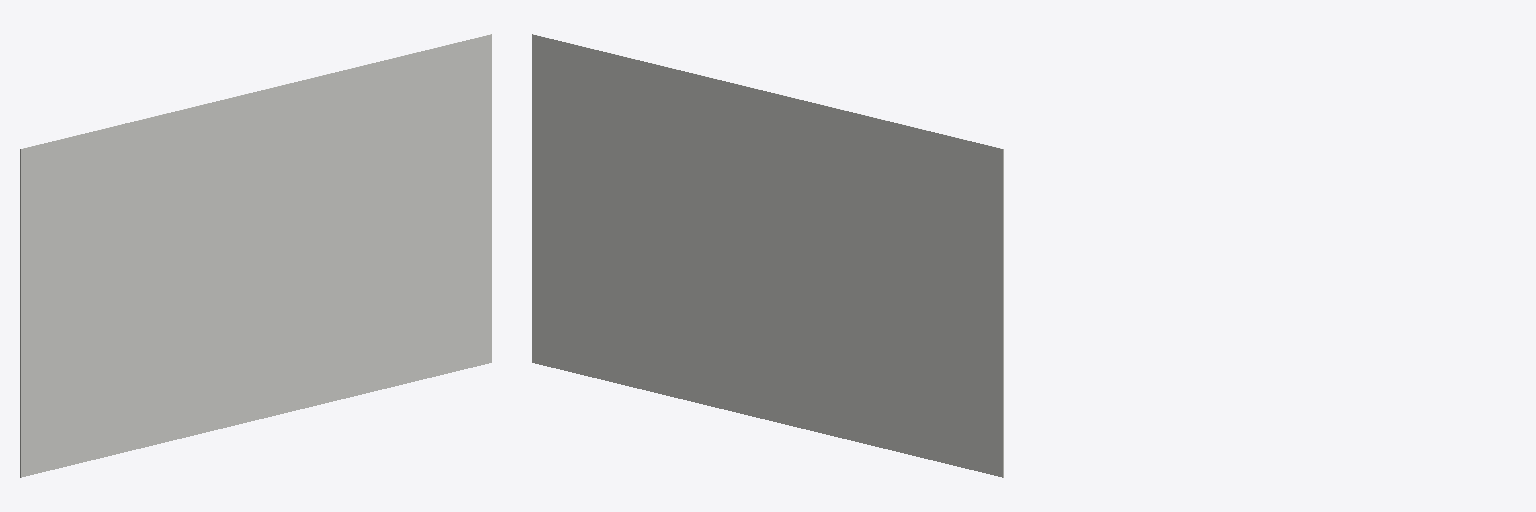
robot.urdf — dual_arm:
<?xml version="1.0" ?>
<!-- =================================================================================== -->
<!-- |    This document was autogenerated by xacro from src/abb_dual_arm/abb_irb120_support/urdf/dual_arm.xacro | -->
<!-- |    EDITING THIS FILE BY HAND IS NOT RECOMMENDED                                 | -->
<!-- =================================================================================== -->
<robot name="dual_arm">
  <!-- Conversion were obtained from http://www.e-paint.co.uk/Lab_values.asp
       unless otherwise stated. -->
  <!-- World Link -->
  <link name="world">
    <visual>
      <origin rpy="0 0 0" xyz="0 0 0"/>
      <geometry>
        <mesh filename="package://abb_irb120_support/meshes/irb120_3_58/visual/ground_plane.stl" scale="0.001 0.001 0.001"/>
      </geometry>
      <material name="">
        <color rgba="0.9254902 0.9254902 0.9058824 1"/>
      </material>
    </visual>
    <collision>
      <origin rpy="0 0 0" xyz="0 0 0"/>
      <geometry>
        <mesh filename="package://abb_irb120_support/meshes/irb120_3_58/collision/ground_plane.stl" scale="0.001 0.001 0.001"/>
      </geometry>
    </collision>
  </link>
  <!-- Arm 1 Links -->
  <link name="base_link">
    <inertial>
      <mass value="6.215"/>
      <origin rpy="0 0 0" xyz="-0.04204 8.01E-05 0.07964"/>
      <inertia ixx="0.0247272" ixy="-8.0784E-05" ixz="0.00130902" iyy="0.0491285" iyz="-8.0419E-06" izz="0.0472376"/>
    </inertial>
    <visual>
      <origin rpy="0 0 0" xyz="0 0 0"/>
      <geometry>
        <mesh filename="package://abb_irb120_support/meshes/irb120_3_58/visual/base_link.stl"/>
      </geometry>
      <material name="">
        <color rgba="0.7372549 0.3490196 0.1607843 1"/>
      </material>
    </visual>
    <collision>
      <origin rpy="0 0 0" xyz="0 0 0"/>
      <geometry>
        <mesh filename="package://abb_irb120_support/meshes/irb120_3_58/collision/base_link.stl"/>
      </geometry>
      <material name="">
        <color rgba="1 1 0 1"/>
      </material>
    </collision>
  </link>
  <link name="link_1">
    <inertial>
      <mass value="3.067"/>
      <origin rpy="0 0 0" xyz="9.77E-05 -0.00012 0.23841"/>
      <inertia ixx="0.0142175" ixy="-1.28579E-05" ixz="-2.31364E-05" iyy="0.0144041" iyz="1.93404E-05" izz="0.0104533"/>
    </inertial>
    <visual>
      <origin rpy="0 0 0" xyz="0 0 0"/>
      <geometry>
        <mesh filename="package://abb_irb120_support/meshes/irb120_3_58/visual/link_1.stl"/>
      </geometry>
      <material name="">
        <color rgba="0.7372549 0.3490196 0.1607843 1"/>
      </material>
    </visual>
    <collision>
      <origin rpy="0 0 0" xyz="0 0 0"/>
      <geometry>
        <mesh filename="package://abb_irb120_support/meshes/irb120_3_58/collision/link_1.stl"/>
      </geometry>
      <material name="">
        <color rgba="1 1 0 1"/>
      </material>
    </collision>
  </link>
  <link name="link_2">
    <inertial>
      <mass value="3.909"/>
      <origin rpy="0 0 0" xyz="0.00078 -0.00212 0.10124"/>
      <inertia ixx="0.0603111" ixy="9.83431E-06" ixz="5.72407E-05" iyy="0.041569" iyz="-0.00050497" izz="0.0259548"/>
    </inertial>
    <visual>
      <origin rpy="0 0 0" xyz="0 0 0"/>
      <geometry>
        <mesh filename="package://abb_irb120_support/meshes/irb120_3_58/visual/link_2.stl"/>
      </geometry>
      <material name="">
        <color rgba="0.7372549 0.3490196 0.1607843 1"/>
      </material>
    </visual>
    <collision>
      <origin rpy="0 0 0" xyz="0 0 0"/>
      <geometry>
        <mesh filename="package://abb_irb120_support/meshes/irb120_3_58/collision/link_2.stl"/>
      </geometry>
      <material name="">
        <color rgba="1 1 0 1"/>
      </material>
    </collision>
  </link>
  <link name="link_3">
    <inertial>
      <mass value="2.944"/>
      <origin rpy="0 0 0" xyz="0.02281 0.00106 0.05791"/>
      <inertia ixx="0.00835606" ixy="-8.01545E-05" ixz="0.00142884" iyy="0.016713" iyz="-0.000182227" izz="0.0126984"/>
    </inertial>
    <visual>
      <origin rpy="0 0 0" xyz="0 0 0"/>
      <geometry>
        <mesh filename="package://abb_irb120_support/meshes/irb120_3_58/visual/link_3.stl"/>
      </geometry>
      <material name="">
        <color rgba="0.7372549 0.3490196 0.1607843 1"/>
      </material>
    </visual>
    <collision>
      <origin rpy="0 0 0" xyz="0 0 0"/>
      <geometry>
        <mesh filename="package://abb_irb120_support/meshes/irb120_3_58/collision/link_3.stl"/>
      </geometry>
      <material name="">
        <color rgba="1 1 0 1"/>
      </material>
    </collision>
  </link>
  <link name="link_4">
    <inertial>
      <mass value="1.328"/>
      <origin rpy="0 0 0" xyz="0.2247 0.00015 0.00041"/>
      <inertia ixx="0.00284661" ixy="-2.12765E-05" ixz="-1.6435E-05" iyy="0.00401346" iyz="1.31336E-05" izz="0.0052535"/>
    </inertial>
    <visual>
      <origin rpy="0 0 0" xyz="0 0 0"/>
      <geometry>
        <mesh filename="package://abb_irb120_support/meshes/irb120_3_58/visual/link_4.stl"/>
      </geometry>
      <material name="">
        <color rgba="0.7372549 0.3490196 0.1607843 1"/>
      </material>
    </visual>
    <collision>
      <origin rpy="0 0 0" xyz="0 0 0"/>
      <geometry>
        <mesh filename="package://abb_irb120_support/meshes/irb120_3_58/collision/link_4.stl"/>
      </geometry>
      <material name="">
        <color rgba="1 1 0 1"/>
      </material>
    </collision>
  </link>
  <link name="link_5">
    <inertial>
      <mass value="0.546"/>
      <origin rpy="0 0 0" xyz="-0.00109 3.68E-05 6.22E-05"/>
      <inertia ixx="0.000404891" ixy="1.61943E-06" ixz="8.46805E-07" iyy="0.000892825" iyz="-1.51792E-08" izz="0.000815468"/>
    </inertial>
    <visual>
      <origin rpy="0 0 0" xyz="0 0 0"/>
      <geometry>
        <mesh filename="package://abb_irb120_support/meshes/irb120_3_58/visual/link_5.stl"/>
      </geometry>
      <material name="">
        <color rgba="0.7372549 0.3490196 0.1607843 1"/>
      </material>
    </visual>
    <collision>
      <origin rpy="0 0 0" xyz="0 0 0"/>
      <geometry>
        <mesh filename="package://abb_irb120_support/meshes/irb120_3_58/collision/link_5.stl"/>
      </geometry>
      <material name="">
        <color rgba="1 1 0 1"/>
      </material>
    </collision>
  </link>
  <link name="link_6">
    <inertial>
      <mass value="0.137"/>
      <origin rpy="0 0 0" xyz="-0.00706 -0.00017 -1.32E-06"/>
      <inertia ixx="0.001" ixy="0" ixz="0" iyy="0.001" iyz="0" izz="0.001"/>
    </inertial>
    <visual>
      <origin rpy="0 0 0" xyz="0 0 0"/>
      <geometry>
        <mesh filename="package://abb_irb120_support/meshes/irb120_3_58/visual/link_6.stl"/>
      </geometry>
      <material name="">
        <color rgba="0.1882353 0.1960784 0.2039216 1"/>
      </material>
    </visual>
    <collision>
      <origin rpy="0 0 0" xyz="0 0 0"/>
      <geometry>
        <mesh filename="package://abb_irb120_support/meshes/irb120_3_58/collision/link_6.stl"/>
      </geometry>
      <material name="">
        <color rgba="1 1 0 1"/>
      </material>
    </collision>
  </link>
  <!-- Arm 2 Links -->
  <link name="base_link_m">
    <inertial>
      <mass value="6.215"/>
      <origin rpy="0 0 0" xyz="-0.04204 8.01E-05 0.07964"/>
      <inertia ixx="0.0247272" ixy="-8.0784E-05" ixz="0.00130902" iyy="0.0491285" iyz="-8.0419E-06" izz="0.0472376"/>
    </inertial>
    <visual>
      <origin rpy="0 0 3.14159" xyz="0 0 0"/>
      <geometry>
        <mesh filename="package://abb_irb120_support/meshes/irb120_3_58/visual/base_link.stl"/>
      </geometry>
      <material name="">
        <color rgba="0.7372549 0.3490196 0.1607843 1"/>
      </material>
    </visual>
    <collision>
      <origin rpy="0 0 3.14159" xyz="0 0 0"/>
      <geometry>
        <mesh filename="package://abb_irb120_support/meshes/irb120_3_58/collision/base_link.stl"/>
      </geometry>
      <material name="">
        <color rgba="1 1 0 1"/>
      </material>
    </collision>
  </link>
  <link name="link_1_m">
    <inertial>
      <mass value="3.067"/>
      <origin rpy="0 0 0" xyz="9.77E-05 -0.00012 0.23841"/>
      <inertia ixx="0.0142175" ixy="-1.28579E-05" ixz="-2.31364E-05" iyy="0.0144041" iyz="1.93404E-05" izz="0.0104533"/>
    </inertial>
    <visual>
      <origin rpy="0 0 3.14159" xyz="0 0 0"/>
      <geometry>
        <mesh filename="package://abb_irb120_support/meshes/irb120_3_58/visual/link_1.stl"/>
      </geometry>
      <material name="">
        <color rgba="0.7372549 0.3490196 0.1607843 1"/>
      </material>
    </visual>
    <collision>
      <origin rpy="0 0 3.14159" xyz="0 0 0"/>
      <geometry>
        <mesh filename="package://abb_irb120_support/meshes/irb120_3_58/collision/link_1.stl"/>
      </geometry>
      <material name="">
        <color rgba="1 1 0 1"/>
      </material>
    </collision>
  </link>
  <link name="link_2_m">
    <inertial>
      <mass value="3.909"/>
      <origin rpy="0 0 0" xyz="0.00078 -0.00212 0.10124"/>
      <inertia ixx="0.0603111" ixy="9.83431E-06" ixz="5.72407E-05" iyy="0.041569" iyz="-0.00050497" izz="0.0259548"/>
    </inertial>
    <visual>
      <origin rpy="0 0 0" xyz="0 0 0"/>
      <geometry>
        <mesh filename="package://abb_irb120_support/meshes/irb120_3_58/visual/link_2.stl"/>
      </geometry>
      <material name="">
        <color rgba="0.7372549 0.3490196 0.1607843 1"/>
      </material>
    </visual>
    <collision>
      <origin rpy="0 0 0" xyz="0 0 0"/>
      <geometry>
        <mesh filename="package://abb_irb120_support/meshes/irb120_3_58/collision/link_2.stl"/>
      </geometry>
      <material name="">
        <color rgba="1 1 0 1"/>
      </material>
    </collision>
  </link>
  <link name="link_3_m">
    <inertial>
      <mass value="2.944"/>
      <origin rpy="0 0 0" xyz="0.02281 0.00106 0.05791"/>
      <inertia ixx="0.00835606" ixy="-8.01545E-05" ixz="0.00142884" iyy="0.016713" iyz="-0.000182227" izz="0.0126984"/>
    </inertial>
    <visual>
      <origin rpy="0 0 3.14159" xyz="0 0 0"/>
      <geometry>
        <mesh filename="package://abb_irb120_support/meshes/irb120_3_58/visual/link_3.stl"/>
      </geometry>
      <material name="">
        <color rgba="0.7372549 0.3490196 0.1607843 1"/>
      </material>
    </visual>
    <collision>
      <origin rpy="0 0 3.14159" xyz="0 0 0"/>
      <geometry>
        <mesh filename="package://abb_irb120_support/meshes/irb120_3_58/collision/link_3.stl"/>
      </geometry>
      <material name="">
        <color rgba="1 1 0 1"/>
      </material>
    </collision>
  </link>
  <link name="link_4_m">
    <inertial>
      <mass value="1.328"/>
      <origin rpy="0 0 0" xyz="2.2247 0.00015 0.00041"/>
      <inertia ixx="0.00284661" ixy="-2.12765E-05" ixz="-1.6435E-05" iyy="0.00401346" iyz="1.31336E-05" izz="0.0052535"/>
    </inertial>
    <visual>
      <origin rpy="3.14159 3.14159 0" xyz="0 0 0"/>
      <geometry>
        <mesh filename="package://abb_irb120_support/meshes/irb120_3_58/visual/link_4.stl"/>
      </geometry>
      <material name="">
        <color rgba="0.7372549 0.3490196 0.1607843 1"/>
      </material>
    </visual>
    <collision>
      <origin rpy="3.14159 3.14159 0" xyz="0 0 0"/>
      <geometry>
        <mesh filename="package://abb_irb120_support/meshes/irb120_3_58/collision/link_4.stl"/>
      </geometry>
      <material name="">
        <color rgba="1 1 0 1"/>
      </material>
    </collision>
  </link>
  <link name="link_5_m">
    <inertial>
      <mass value="0.546"/>
      <origin rpy="0 0 0" xyz="-0.60109 3.68E-05 6.22E-05"/>
      <inertia ixx="0.000404891" ixy="1.61943E-06" ixz="8.46805E-07" iyy="0.000892825" iyz="-1.51792E-08" izz="0.000815468"/>
    </inertial>
    <visual>
      <origin rpy="3.14159 3.14159 0" xyz="0 0 0"/>
      <geometry>
        <mesh filename="package://abb_irb120_support/meshes/irb120_3_58/visual/link_5.stl"/>
      </geometry>
      <material name="">
        <color rgba="0.7372549 0.3490196 0.1607843 1"/>
      </material>
    </visual>
    <collision>
      <origin rpy="3.14159 3.14159 0" xyz="0 0 0"/>
      <geometry>
        <mesh filename="package://abb_irb120_support/meshes/irb120_3_58/collision/link_5.stl"/>
      </geometry>
      <material name="">
        <color rgba="1 1 0 1"/>
      </material>
    </collision>
  </link>
  <link name="link_6_m">
    <inertial>
      <mass value="0.137"/>
      <origin rpy="0 0 0" xyz="-0.00706 -0.00017 -1.32E-06"/>
      <inertia ixx="0.001" ixy="0" ixz="0" iyy="0.001" iyz="0" izz="0.001"/>
    </inertial>
    <visual>
      <origin rpy="0 3.14159 0" xyz="0 0 0"/>
      <geometry>
        <mesh filename="package://abb_irb120_support/meshes/irb120_3_58/visual/link_6.stl"/>
      </geometry>
      <material name="">
        <color rgba="0.1882353 0.1960784 0.2039216 1"/>
      </material>
    </visual>
    <collision>
      <origin rpy="0 3.14159 0" xyz="0 0 0"/>
      <geometry>
        <mesh filename="package://abb_irb120_support/meshes/irb120_3_58/collision/link_6.stl"/>
      </geometry>
      <material name="">
        <color rgba="1 1 0 1"/>
      </material>
    </collision>
  </link>
  <!-- Gripper Links -->
  <link name="gripper_m">
    <visual>
      <origin rpy="0 0 0" xyz="0 0 0"/>
      <geometry>
        <mesh filename="package://abb_irb120_support/meshes/irb120_3_58/visual/gripper_assembly.stl" scale="0.001 0.001 0.001"/>
      </geometry>
      <material name="">
        <color rgba="0.9254902 0.9254902 0.9058824 1"/>
      </material>
    </visual>
    <collision>
      <origin rpy="0 0 0" xyz="0 0 0"/>
      <geometry>
        <mesh filename="package://abb_irb120_support/meshes/irb120_3_58/collision/gripper_collision_cube.stl" scale="0.001 0.001 0.001"/>
      </geometry>
    </collision>
  </link>
  <!-- Arm 1 Joints -->
  <joint name="joint_2" type="revolute">
    <origin rpy="0 0 0" xyz="0 0 0"/>
    <parent link="base_link"/>
    <child link="link_1"/>
    <limit effort="0" lower="-2.87979" upper="2.87979" velocity="4.36332"/>
    <axis xyz="0 0 1"/>
    <dynamics damping="0.0" friction="0.0"/>
  </joint>
  <joint name="joint_3" type="revolute">
    <origin rpy="0 0 0" xyz="0 0 0.29"/>
    <parent link="link_1"/>
    <child link="link_2"/>
    <limit effort="0" lower="-1.91986" upper="1.91986" velocity="4.36332"/>
    <axis xyz="0 1 0"/>
    <dynamics damping="0.0" friction="0.0"/>
  </joint>
  <joint name="joint_4" type="revolute">
    <origin rpy="0 0 0" xyz="0 0 0.27"/>
    <parent link="link_2"/>
    <child link="link_3"/>
    <limit effort="0" lower="-1.91986" upper="1.22173" velocity="4.36332"/>
    <axis xyz="0 1 0"/>
    <dynamics damping="0.0" friction="0.0"/>
  </joint>
  <joint name="joint_5" type="revolute">
    <origin rpy="0 0 0" xyz="0 0 0.07"/>
    <parent link="link_3"/>
    <child link="link_4"/>
    <limit effort="0" lower="-2.79253" upper="2.79253" velocity="5.58505"/>
    <axis xyz="1 0 0"/>
    <dynamics damping="0.0" friction="0.0"/>
  </joint>
  <joint name="joint_6" type="revolute">
    <origin rpy="0 0 0" xyz="0.302 0 0"/>
    <parent link="link_4"/>
    <child link="link_5"/>
    <limit effort="0" lower="-2.094395" upper="2.094395" velocity="5.58505"/>
    <axis xyz="0 1 0"/>
    <dynamics damping="0.0" friction="0.0"/>
  </joint>
  <joint name="joint_7" type="revolute">
    <origin rpy="0 0 0" xyz="0.072 0 0"/>
    <parent link="link_5"/>
    <child link="link_6"/>
    <limit effort="0" lower="-6.98132" upper="6.98132" velocity="7.33038"/>
    <axis xyz="1 0 0"/>
    <dynamics damping="0.0" friction="0.0"/>
  </joint>
  <!-- Arm 2 Joints -->
  <joint name="joint_2_m" type="revolute">
    <origin rpy="0 0 0" xyz="0 0 0"/>
    <parent link="base_link_m"/>
    <child link="link_1_m"/>
    <limit effort="0" lower="-2.87979" upper="2.87979" velocity="4.36332"/>
    <axis xyz="0 0 1"/>
    <dynamics damping="0.0" friction="0.0"/>
  </joint>
  <joint name="joint_3_m" type="revolute">
    <origin rpy="0 0 0" xyz="0 0 0.29"/>
    <parent link="link_1_m"/>
    <child link="link_2_m"/>
    <limit effort="0" lower="-1.91986" upper="1.91986" velocity="4.36332"/>
    <axis xyz="0 -1 0"/>
    <dynamics damping="0.0" friction="0.0"/>
  </joint>
  <joint name="joint_4_m" type="revolute">
    <origin rpy="0 0 0" xyz="0 0 0.27"/>
    <parent link="link_2_m"/>
    <child link="link_3_m"/>
    <limit effort="0" lower="-1.91986" upper="1.22173" velocity="4.36332"/>
    <axis xyz="0 -1 0"/>
    <dynamics damping="0.0" friction="0.0"/>
  </joint>
  <joint name="joint_5_m" type="revolute">
    <origin rpy="0 0 0" xyz="0 0 0.07"/>
    <parent link="link_3_m"/>
    <child link="link_4_m"/>
    <limit effort="0" lower="-2.79253" upper="2.79253" velocity="5.58505"/>
    <axis xyz="-1 0 0"/>
    <dynamics damping="0.0" friction="0.0"/>
  </joint>
  <joint name="joint_6_m" type="revolute">
    <origin rpy="0 0 0" xyz="-0.302 0 0"/>
    <parent link="link_4_m"/>
    <child link="link_5_m"/>
    <limit effort="0" lower="-2.094395" upper="2.094395" velocity="5.58505"/>
    <axis xyz="0 -1 0"/>
    <dynamics damping="0.0" friction="0.0"/>
  </joint>
  <joint name="joint_7_m" type="revolute">
    <origin rpy="0 0 0" xyz="-0.072 0 0"/>
    <parent link="link_5_m"/>
    <child link="link_6_m"/>
    <limit effort="0" lower="-6.98132" upper="6.98132" velocity="7.33038"/>
    <axis xyz="1 0 0"/>
    <dynamics damping="0.0" friction="0.0"/>
  </joint>
  <!-- Gripper Joints -->
  <joint name="gripper_joint_m" type="fixed">
    <origin rpy="0 0 0" xyz="0 0 0"/>
    <parent link="link_6_m"/>
    <child link="gripper_m"/>
  </joint>
  <!-- World Joints -->
  <joint name="world-base_link" type="fixed">
    <origin rpy="0 0 0" xyz="-0.545 0 0"/>
    <parent link="world"/>
    <child link="base_link"/>
  </joint>
  <joint name="world-base_link_m" type="fixed">
    <origin rpy="0 0 0" xyz="0.545 0 0"/>
    <parent link="world"/>
    <child link="base_link_m"/>
  </joint>
</robot>

--- What the picture shows (computed from the rendered views, not written in the file) ---
Views: 3 orthographic renders of the robot side by side, from view 1: azimuth 30°, elevation 25°; view 2: azimuth 150°, elevation 25°; view 3: azimuth 270°, elevation 25°.
Model dual_arm with 16 links and 15 joints (12 revolute, 3 fixed), rooted at world, posed every joint at zero.
Visible links, largest first — view 1: world; view 2: world; view 3: none.
Link boxes in pixels (<box>): world: <box>20,34,491,477</box>; world: <box>532,34,1003,477</box>.
Bounding box of the posed robot: 1.5 × 0.001 × 1 m (x, y, z).
Meshes: 9 distinct files referenced, 1 mesh visuals loaded (1 binary STL); not drawn: 15 (reference not matched to a file when rendering).